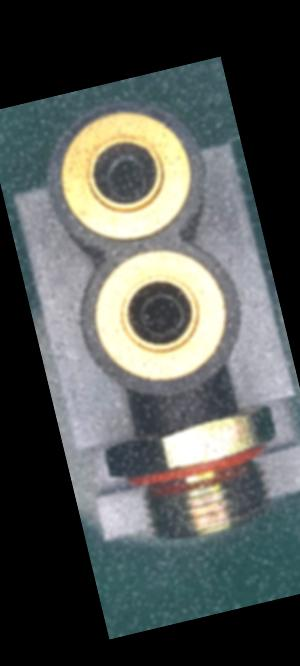craze: (177, 410, 193, 430)
off-centered: (97, 146, 157, 207)
